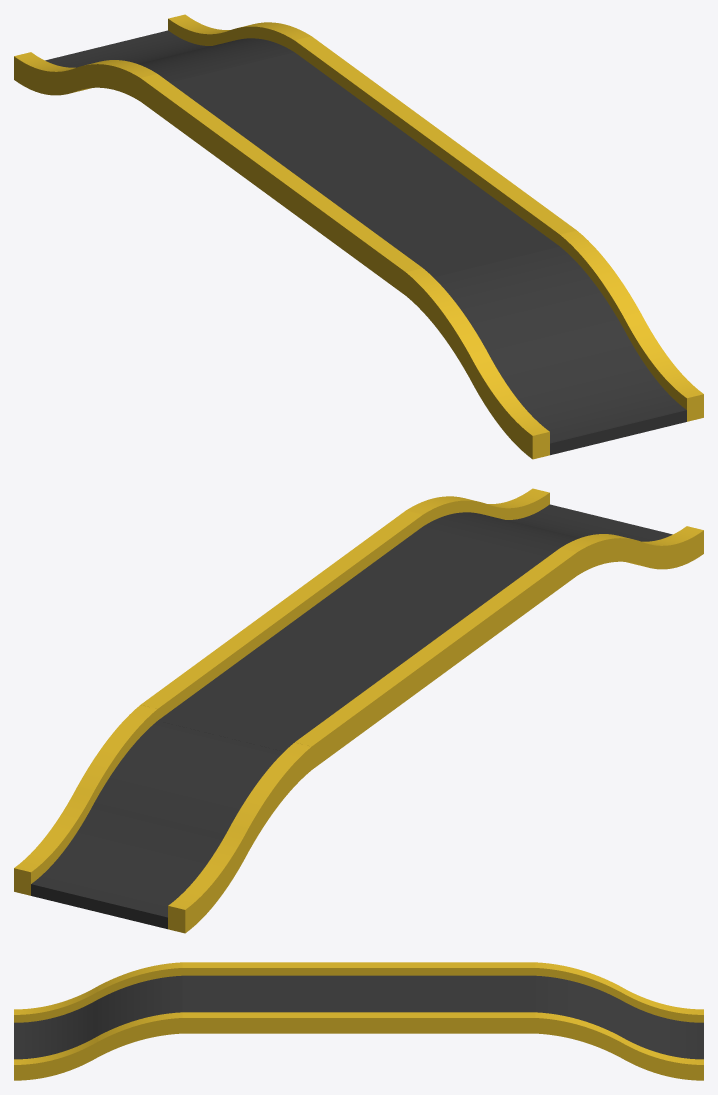
Rendered from Demo_Road.fbx.
3 views of the same model, one above another, from view 1: azimuth 30°, elevation 25°; view 2: azimuth 150°, elevation 25°; view 3: azimuth 270°, elevation 25° (orthographic). The views are drawn at different scales.
Visible parts, largest first — view 1: mergedBlocks; view 2: mergedBlocks; view 3: mergedBlocks.
Part boxes in pixels (left/top/right/bottom): mergedBlocks: left=14, top=14, right=703, bottom=459; mergedBlocks: left=14, top=488, right=703, bottom=933; mergedBlocks: left=14, top=962, right=703, bottom=1080.
Bounding box in the file's own units: 15.19 × 8 × 79.7.
